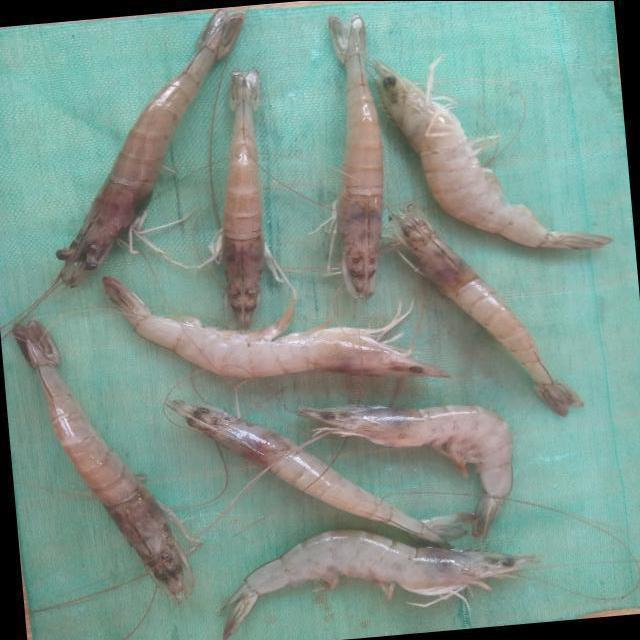shrimp: (56, 7, 244, 287), (12, 318, 194, 600), (372, 59, 613, 249), (169, 401, 470, 545), (391, 205, 584, 416), (102, 276, 450, 378), (223, 530, 537, 640), (297, 405, 513, 540), (328, 12, 384, 299), (222, 67, 264, 328)
